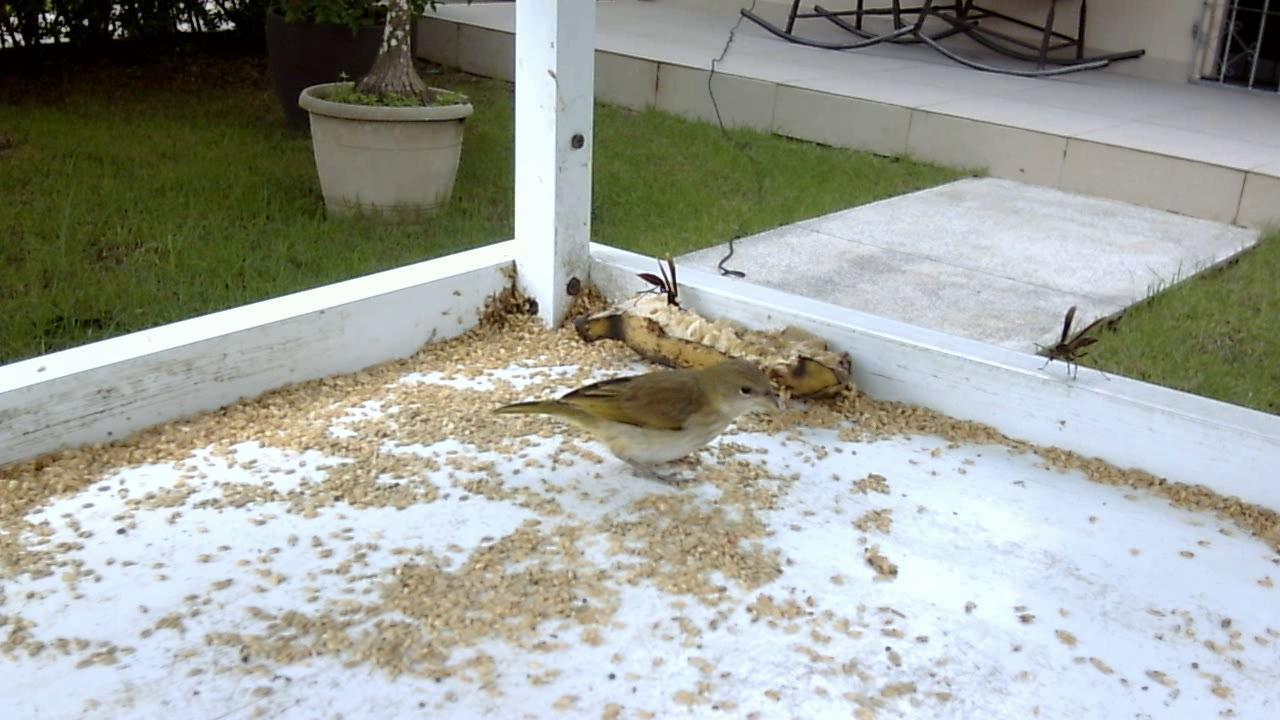canario_do_amazonas: (485, 354, 780, 496)
